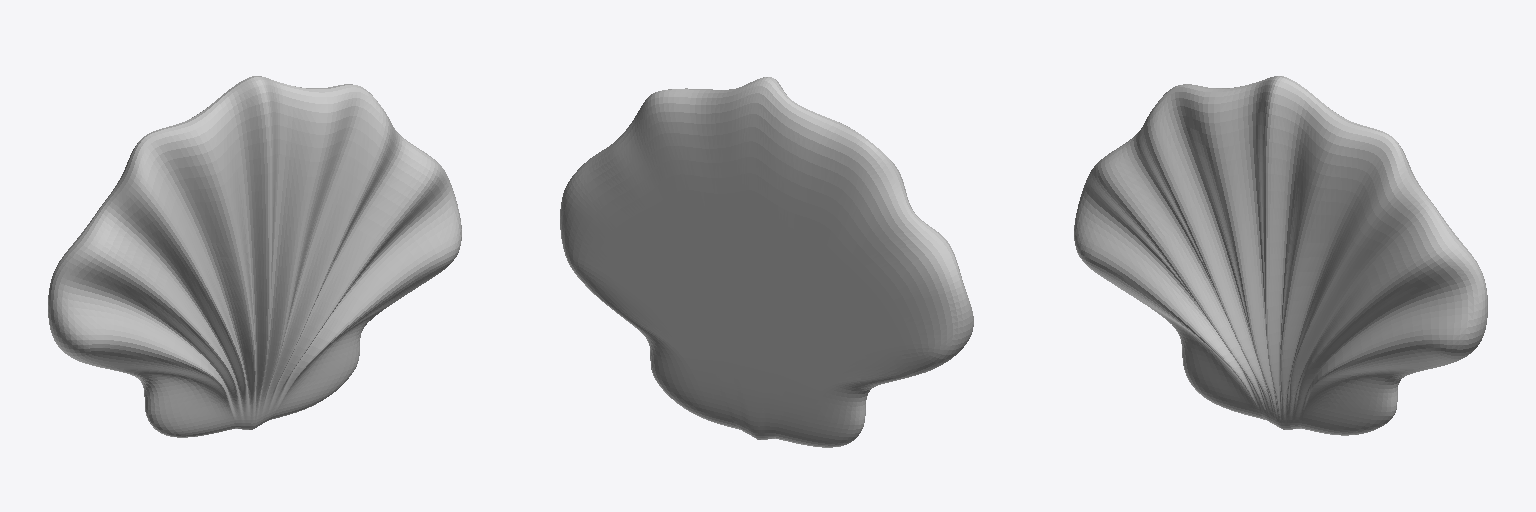
The model's file is scallop.obj.
The picture shows the model from 3 angles: view 1: azimuth 30°, elevation 25°; view 2: azimuth 150°, elevation 25°; view 3: azimuth 330°, elevation 25°; orthographic projection.
Bounding box in the file's own units: 19.76 × 16.58 × 2.55.